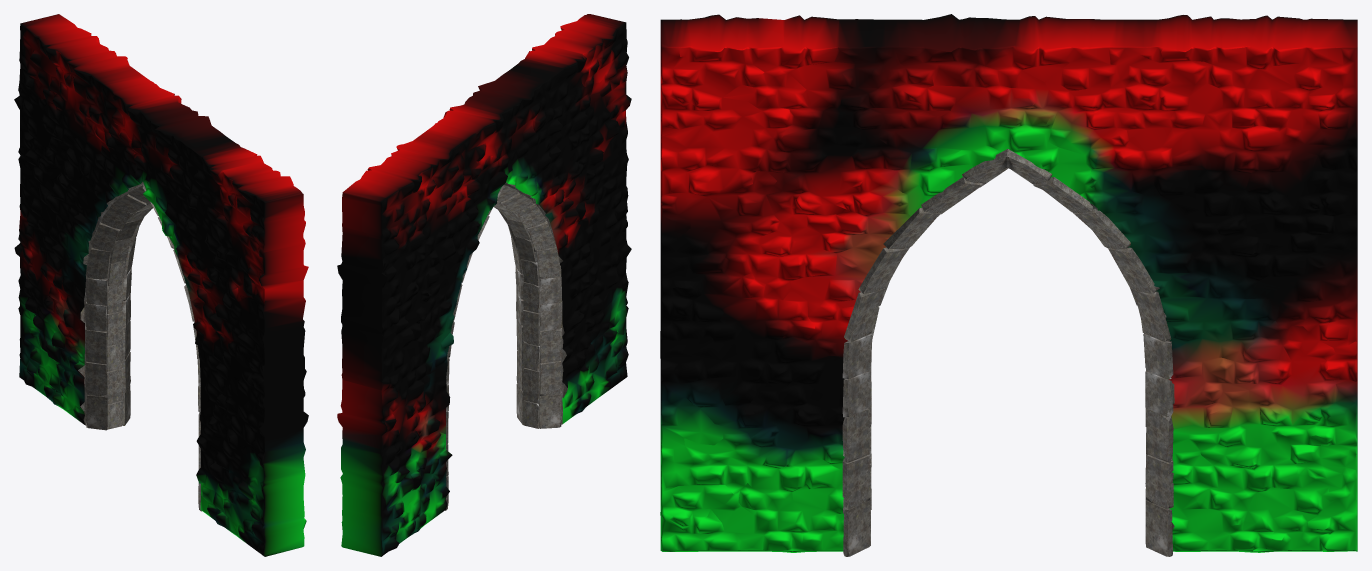
The model's file is SM_Front_Arch.fbx.
The picture shows the model from 3 angles, left to right: view 1: azimuth 30°, elevation 25°; view 2: azimuth 150°, elevation 25°; view 3: azimuth 270°, elevation 25°; orthographic projection. The views are drawn at different scales.
Parts seen in each view (by area): view 1: SM_Front_Arch_LOD0; view 2: SM_Front_Arch_LOD0; view 3: SM_Front_Arch_LOD0.
Boxes of the visible parts, x1,y1,x2,y2 form: SM_Front_Arch_LOD0: [14, 14, 308, 556]; SM_Front_Arch_LOD0: [337, 14, 631, 556]; SM_Front_Arch_LOD0: [660, 14, 1357, 556].
Bounding box in the file's own units: 128 × 1000 × 806.
